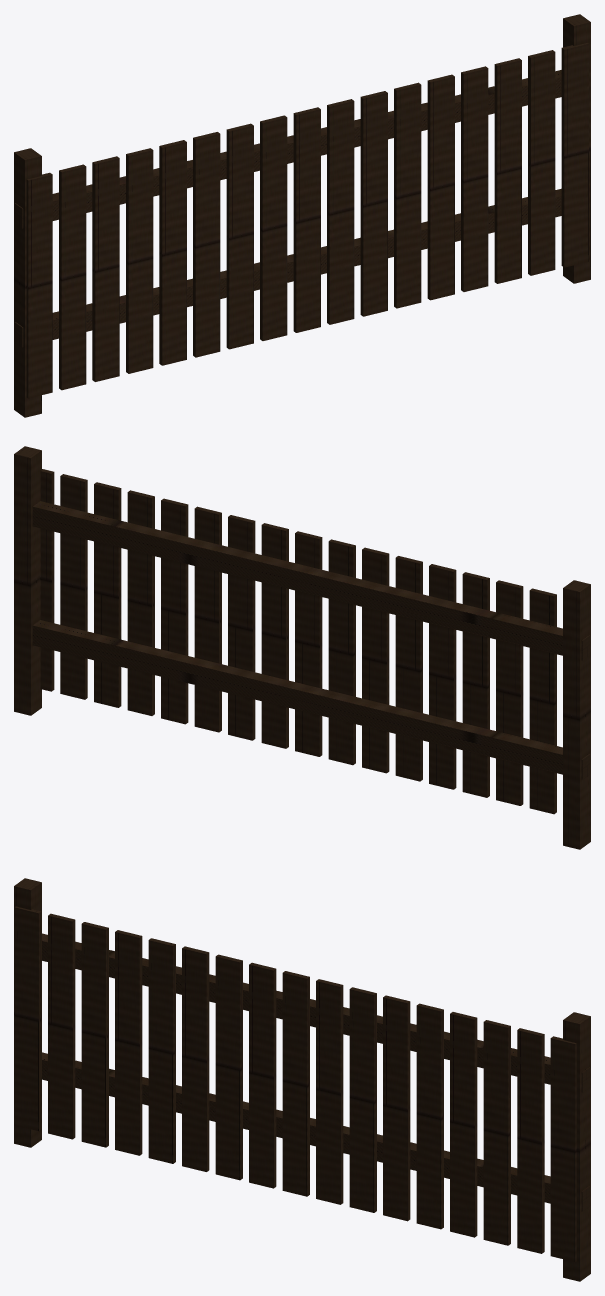
File: fence-3m.glb
3 views of the same model, one above another, from view 1: azimuth 30°, elevation 25°; view 2: azimuth 150°, elevation 25°; view 3: azimuth 330°, elevation 25° (orthographic).
Parts seen in each view (by area): view 1: Picket.002, Picket.003, Picket.009, Picket.012, Picket.004, Picket.006, Picket.007, Picket.008, Picket.013, Picket.014, Picket.001, Picket.010 (+9 smaller); view 2: Rail, Rail.001, Post, Post.001, Picket.003, Picket.014, Picket.008, Picket.009, Picket.002, Picket.004, Picket.012, Picket.006 (+8 smaller); view 3: Picket.014, Picket.003, Picket.004, Picket.007, Picket.009, Picket.012, Picket.001, Picket.002, Picket.006, Picket.008, Picket.010, Picket.011 (+9 smaller).
Boxes of the visible parts, x1,y1,x2,y2 form: Picket.002: (92,156,119,381); Picket.003: (126,148,153,373); Picket.009: (327,99,354,324); Picket.012: (427,74,454,300); Picket.004: (159,140,186,365); Picket.006: (226,123,253,349); Picket.007: (260,115,287,340); Picket.008: (293,107,320,332); Picket.013: (461,66,488,291); Picket.014: (494,58,521,283); Picket.001: (59,164,86,390); Picket.010: (360,91,387,316); Rail: (32,620,590,779); Rail.001: (32,501,590,660); Post: (563,580,590,849); Post.001: (14,446,41,715); Picket.003: (462,572,489,797); Picket.014: (94,482,121,707); Picket.008: (295,531,322,756); Picket.009: (261,523,288,748); Picket.002: (496,580,523,805); Picket.004: (429,564,456,789); Picket.012: (161,498,188,724); Picket.006: (362,547,389,773); Picket.014: (483,1020,510,1245); Picket.003: (115,930,142,1155); Picket.004: (148,938,175,1163); Picket.007: (249,962,276,1188); Picket.009: (316,979,343,1204); Picket.012: (416,1003,443,1229); Picket.001: (48,913,75,1139); Picket.002: (81,922,108,1147); Picket.006: (215,954,242,1180); Picket.008: (282,971,309,1196); Picket.010: (349,987,376,1212); Picket.011: (383,995,410,1221).
Bounding box in the file's own units: 3 × 1.3 × 0.1125.
1 material, 1 textured.
